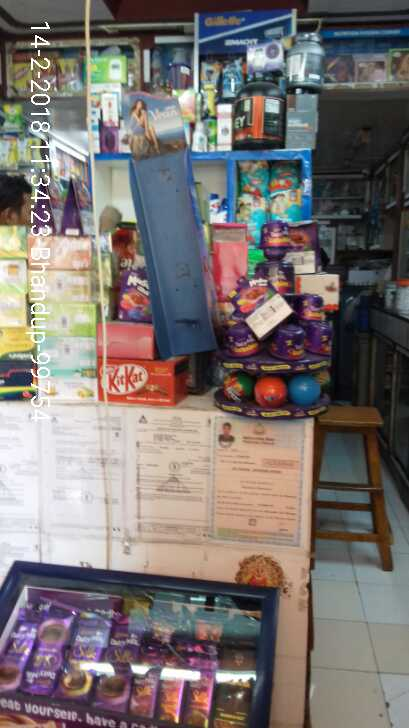pharmacy: (236, 195, 265, 223), (241, 159, 265, 191), (272, 190, 301, 216), (269, 160, 295, 188)
